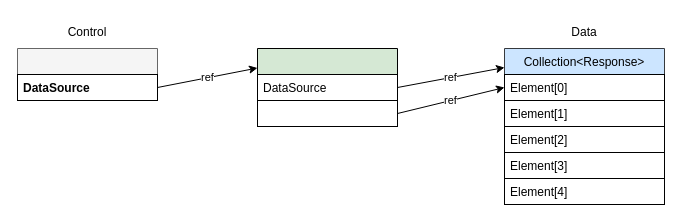
The diagram is 682 pixels wide and 224 high, and some of its shapes have lost their labels. Here are the shapes that lost their labels. From the top down, the box of each, then its label:
(16, 48, 158, 100): ListBox
(256, 48, 398, 126): BindingSource
(256, 100, 398, 126): Current
